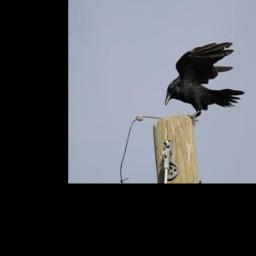Crow: (164, 40, 247, 125)
